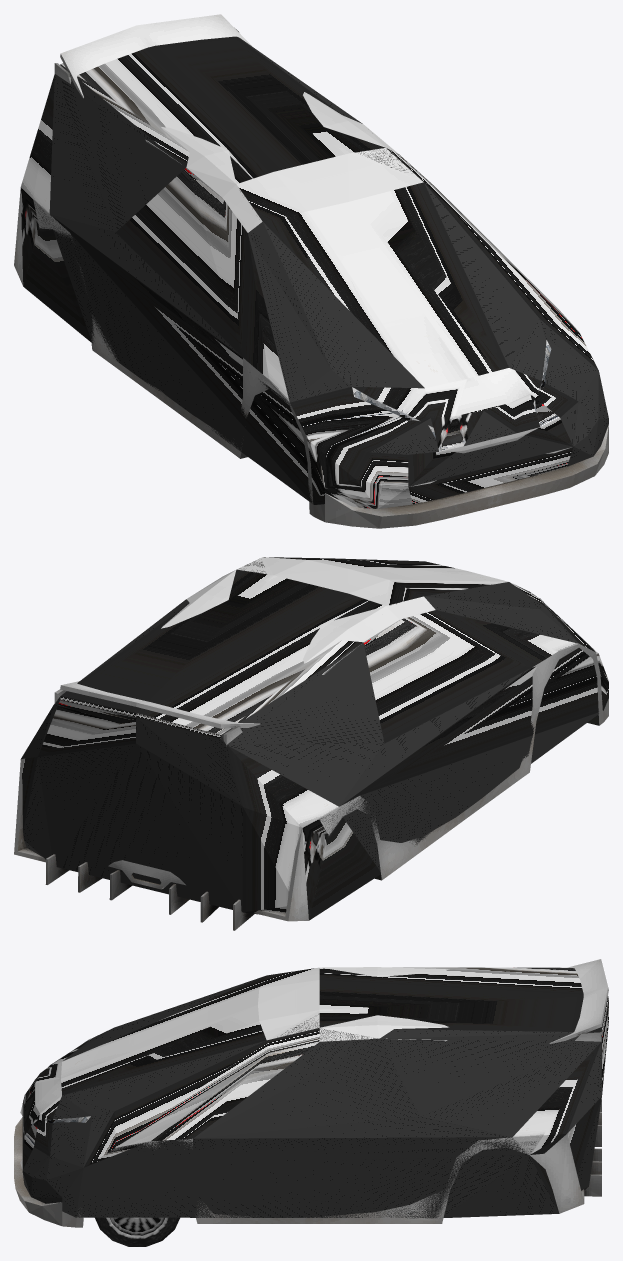
The model's file is spec17.gltf.
The picture shows the model from 3 angles, top to bottom: view 1: azimuth 30°, elevation 25°; view 2: azimuth 150°, elevation 25°; view 3: azimuth 270°, elevation 25°; orthographic projection. The views are drawn at different scales.
Visible parts, largest first — view 1: spec17_hull, spec17_body, spec17_headlights; view 2: spec17_hull, spec17_body; view 3: spec17_hull, spec17_body, spec17_wheel.
Boxes of the visible parts, box(x1,y1,x2,y2) form: spec17_hull: box(20, 36, 608, 508); spec17_body: box(14, 14, 608, 528); spec17_headlights: box(352, 340, 551, 438); spec17_hull: box(20, 557, 608, 920); spec17_body: box(14, 557, 608, 930); spec17_hull: box(22, 967, 608, 1218); spec17_body: box(14, 959, 608, 1227); spec17_wheel: box(95, 1217, 179, 1246).
Size of the model in its own units: 1.91 by 1.57 by 4.12.
Materials: 3 (3 with a texture image).
